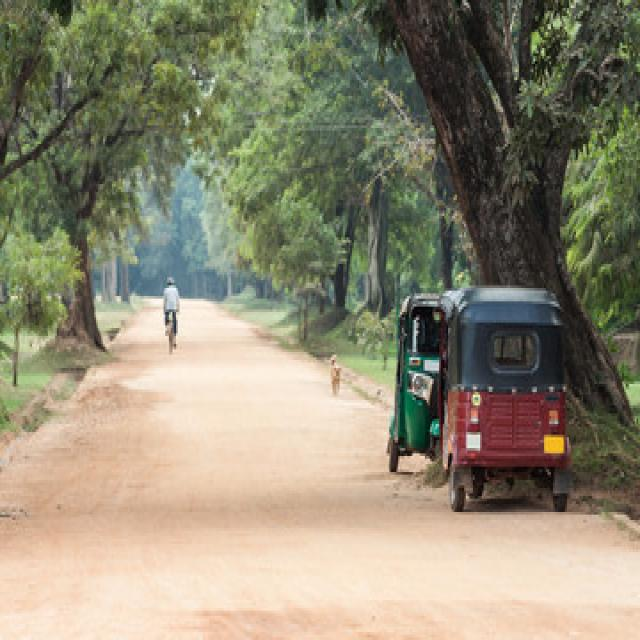person: (164, 277, 178, 333)
three wheeler: (439, 288, 569, 509), (388, 296, 439, 469)
